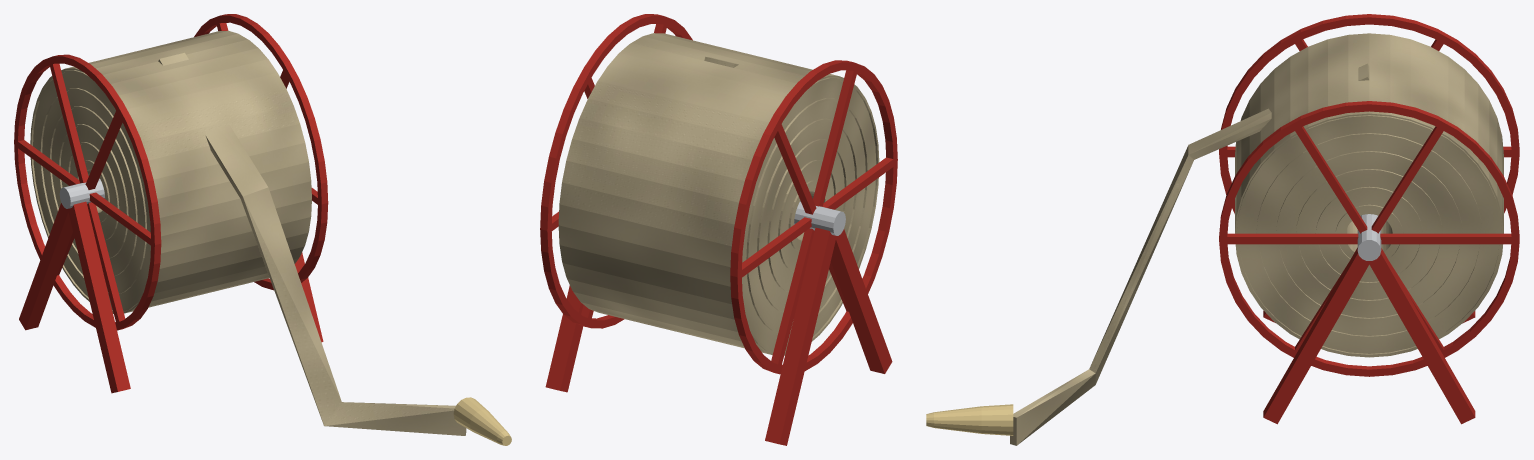
Rendered from carretel_mangueira.glb.
3 renders of one model, left to right at view 1: azimuth 30°, elevation 25°; view 2: azimuth 150°, elevation 25°; view 3: azimuth 270°, elevation 25°, orthographic. The views are drawn at different scales.
Parts seen in each view (by area): view 1: carretel_mangueira_lona_crua, carretel_mangueira_vermelho_bombeiro, carretel_mangueira_latao, carretel_mangueira_aco; view 2: carretel_mangueira_lona_crua, carretel_mangueira_vermelho_bombeiro, carretel_mangueira_aco; view 3: carretel_mangueira_lona_crua, carretel_mangueira_vermelho_bombeiro, carretel_mangueira_latao, carretel_mangueira_aco.
Part boxes in pixels (bbox=[...]): carretel_mangueira_lona_crua: bbox=[30, 30, 466, 435]; carretel_mangueira_vermelho_bombeiro: bbox=[14, 14, 328, 393]; carretel_mangueira_latao: bbox=[453, 397, 511, 445]; carretel_mangueira_aco: bbox=[59, 178, 105, 208]; carretel_mangueira_lona_crua: bbox=[558, 33, 879, 355]; carretel_mangueira_vermelho_bombeiro: bbox=[540, 14, 897, 445]; carretel_mangueira_aco: bbox=[794, 201, 845, 235]; carretel_mangueira_lona_crua: bbox=[1010, 33, 1503, 445]; carretel_mangueira_vermelho_bombeiro: bbox=[1219, 14, 1519, 424]; carretel_mangueira_latao: bbox=[926, 404, 1013, 435]; carretel_mangueira_aco: bbox=[1357, 214, 1381, 260].
Size of the model in its own units: 0.77 by 0.8902 by 1.5.
4 materials, 1 textured.
